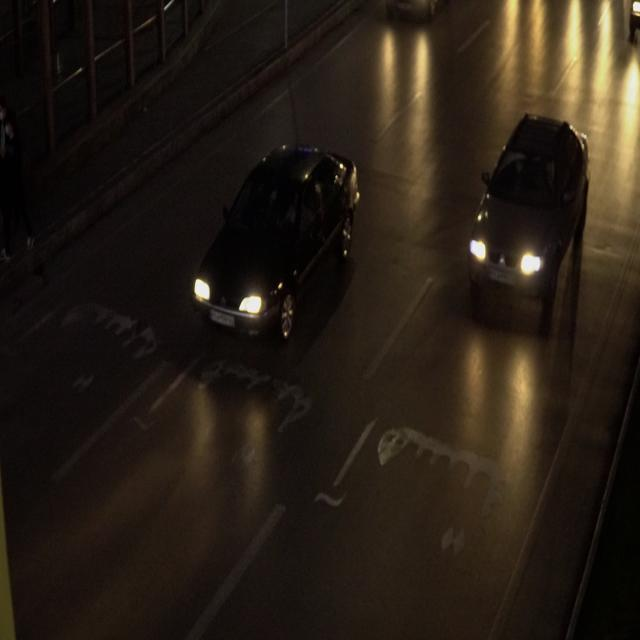car: (192, 140, 360, 350), (463, 112, 590, 303)
